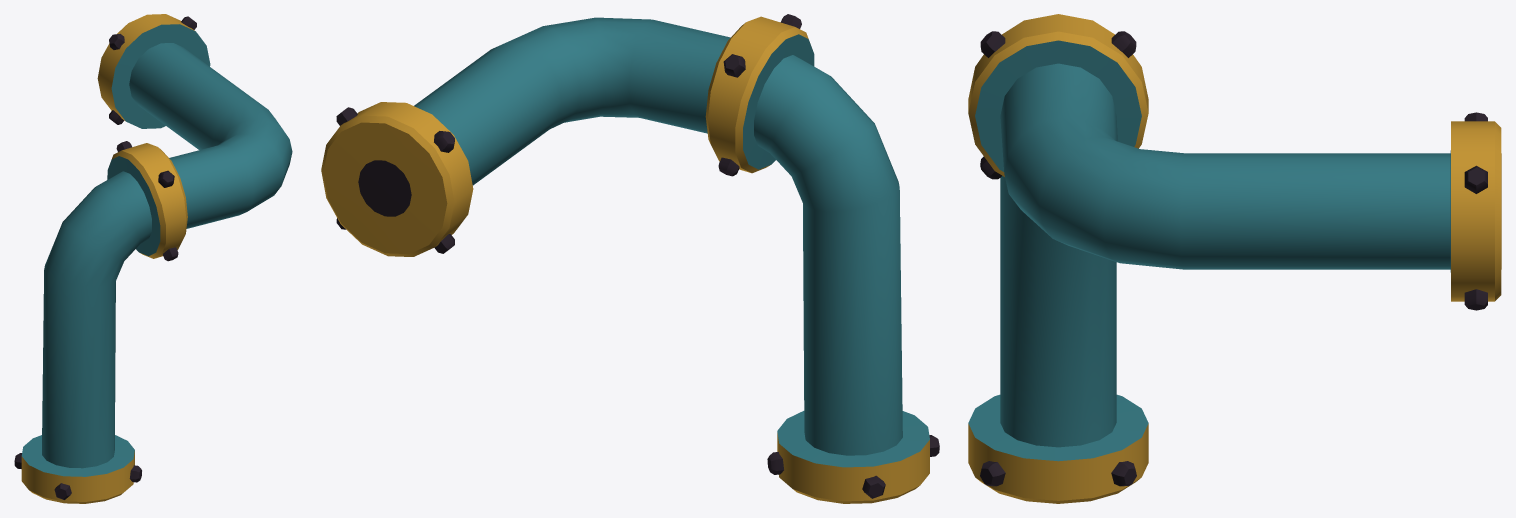
File: PipeRun_10.glb
The picture shows the model from 3 angles, left to right: view 1: azimuth 30°, elevation 25°; view 2: azimuth 150°, elevation 25°; view 3: azimuth 270°, elevation 25°; orthographic projection. The views are drawn at different scales.
Visible parts, largest first — view 1: PipeRun_10; view 2: PipeRun_10; view 3: PipeRun_10.
Boxes of the visible parts, left/top/right/bottom form: PipeRun_10: left=14, top=14, right=292, bottom=503; PipeRun_10: left=321, top=14, right=939, bottom=503; PipeRun_10: left=968, top=14, right=1501, bottom=503.
Bounding box in the file's own units: 3.31 × 3.26 × 3.16.
